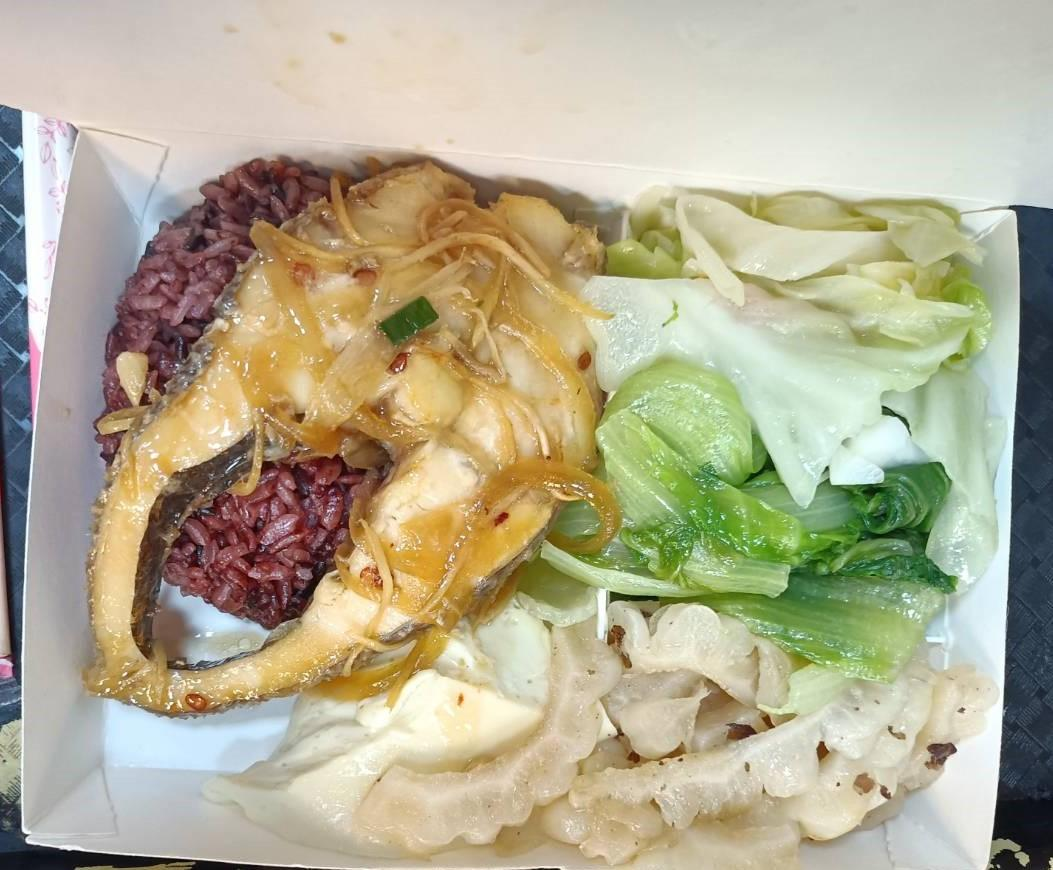big grilled chicken leg: (4, 92, 1035, 870)
braised fish: (102, 148, 396, 631)
braised fish fillet: (371, 603, 982, 860), (585, 184, 1004, 497), (598, 368, 950, 671), (219, 612, 554, 855)
braised pork ribs: (79, 160, 600, 713)
